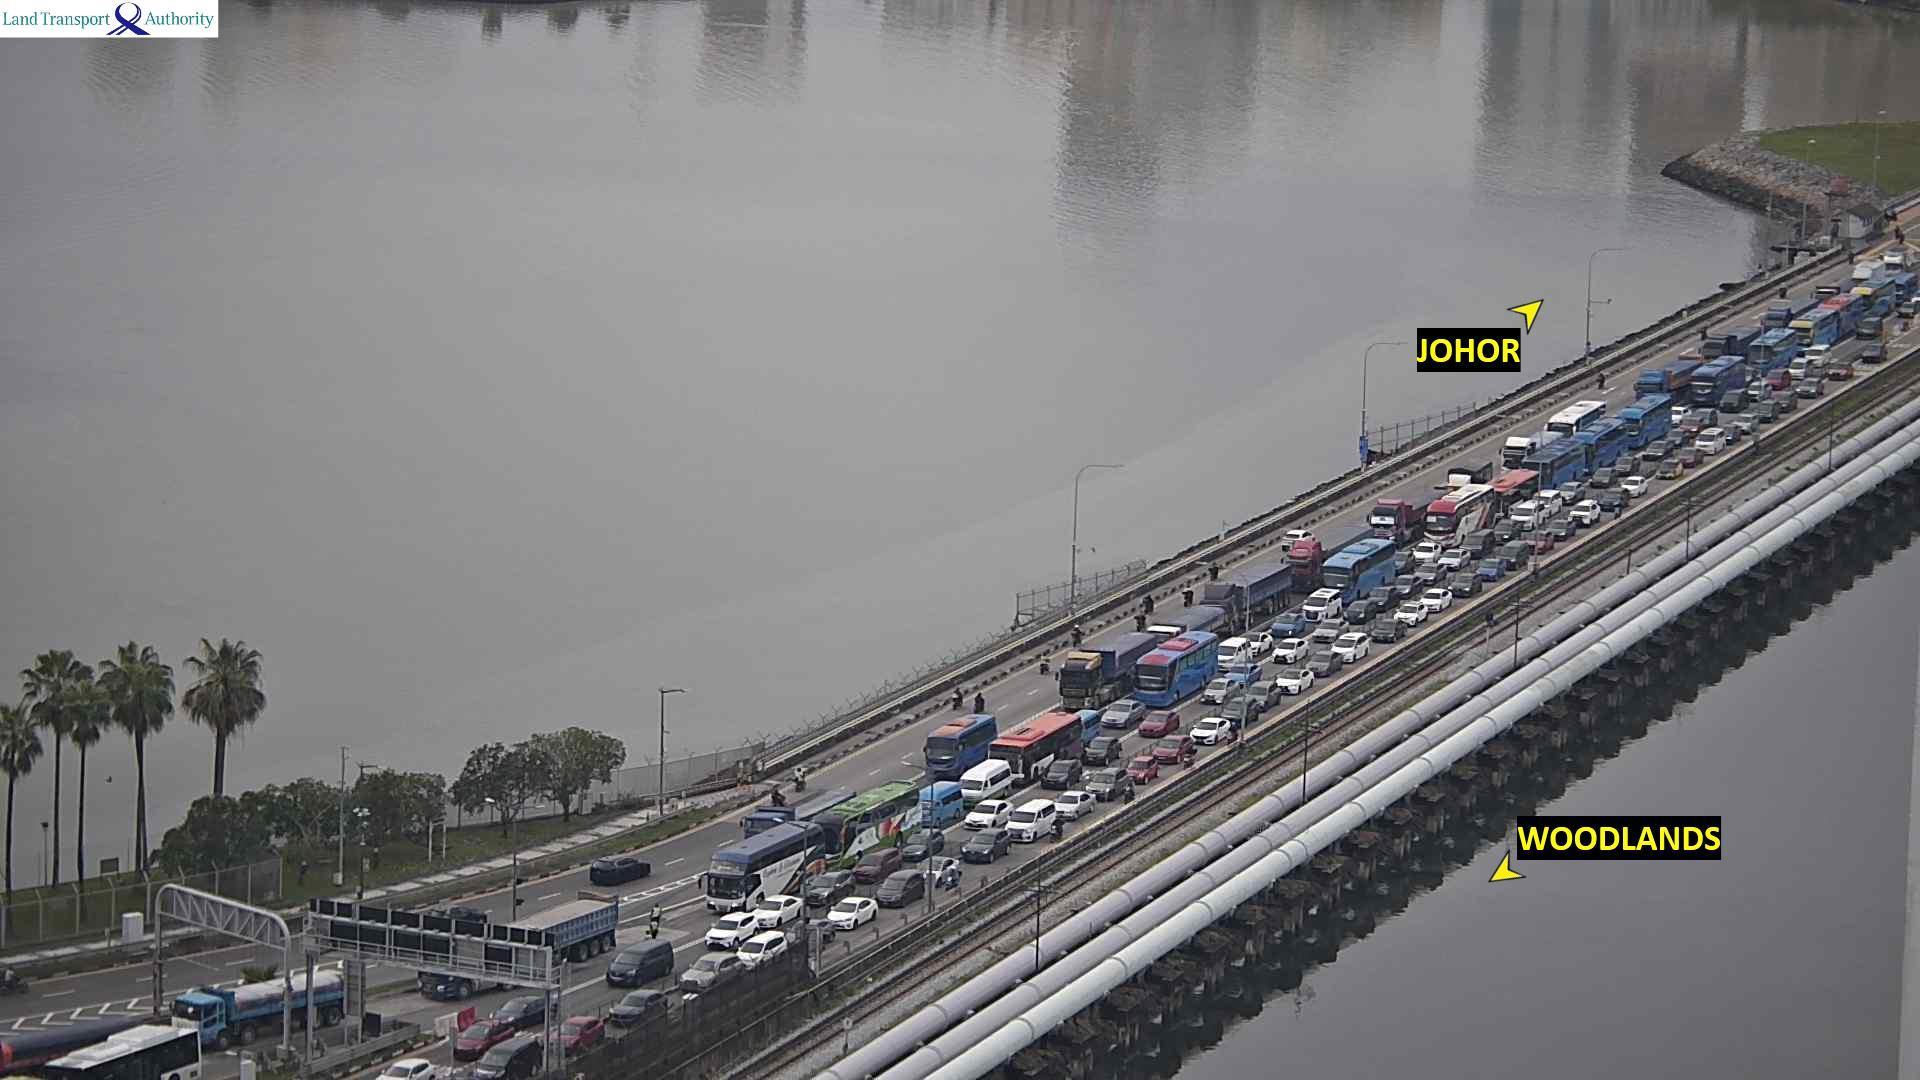vehicle-causeway-johor: (589, 860, 653, 886), (1282, 529, 1315, 550), (1812, 283, 1847, 297), (951, 688, 962, 706), (1697, 324, 1707, 343), (1136, 612, 1147, 628), (1144, 594, 1155, 609), (976, 692, 984, 712), (1073, 624, 1081, 644), (1596, 371, 1606, 386), (1777, 284, 1787, 295), (1211, 563, 1218, 578), (1185, 588, 1191, 605), (1042, 653, 1047, 672), (1849, 252, 1854, 264)
vehicle-causeway-singapore: (190, 967, 345, 1047), (700, 825, 844, 909), (820, 785, 968, 861), (485, 904, 618, 980), (989, 710, 1106, 787), (1060, 635, 1153, 705), (1135, 634, 1224, 698), (1321, 537, 1411, 594), (920, 719, 1000, 781), (1425, 483, 1508, 535), (1519, 439, 1602, 487), (605, 940, 679, 985), (1607, 399, 1672, 448), (488, 994, 566, 1030), (1637, 359, 1702, 401), (954, 763, 1022, 799), (1685, 360, 1749, 398), (1785, 308, 1849, 345), (1476, 470, 1543, 505), (1545, 402, 1605, 441), (676, 959, 744, 992), (542, 1017, 608, 1051), (482, 1046, 546, 1079), (1370, 499, 1425, 537), (733, 936, 791, 971), (1704, 326, 1763, 360), (824, 897, 881, 929), (609, 995, 668, 1025), (704, 917, 761, 948), (1750, 331, 1794, 369), (1073, 771, 1129, 800), (871, 878, 925, 908), (746, 901, 805, 927), (447, 1035, 502, 1062), (955, 835, 1010, 862), (1852, 278, 1892, 312), (1014, 800, 1052, 834), (1038, 762, 1084, 789), (1099, 701, 1144, 727), (1305, 590, 1341, 622), (970, 799, 1011, 827), (1266, 614, 1312, 638), (905, 827, 942, 856), (1139, 711, 1180, 737), (1153, 735, 1191, 763), (1269, 671, 1313, 694), (1049, 793, 1093, 816), (1218, 637, 1249, 668), (386, 1060, 434, 1079), (1512, 500, 1545, 527), (1272, 639, 1308, 663), (1335, 632, 1368, 658), (1307, 651, 1345, 673), (1192, 716, 1228, 739), (1570, 500, 1601, 526), (1227, 662, 1262, 685), (1251, 680, 1278, 709), (1225, 697, 1257, 721), (1127, 756, 1157, 781), (1344, 599, 1375, 623), (1596, 487, 1629, 509), (1420, 589, 1451, 612), (1410, 541, 1442, 563), (1535, 490, 1561, 517), (1371, 620, 1404, 641), (1240, 631, 1272, 652), (1315, 619, 1343, 643), (1857, 345, 1892, 363), (1697, 430, 1724, 453), (1521, 530, 1552, 550), (1441, 547, 1471, 567), (1416, 564, 1449, 582), (1451, 574, 1479, 595), (1396, 602, 1425, 622), (1856, 316, 1881, 339), (1477, 562, 1505, 582), (1675, 448, 1704, 467), (1730, 412, 1756, 433), (1896, 271, 1917, 297), (1815, 363, 1851, 378), (1504, 541, 1529, 562), (1589, 467, 1616, 486), (1771, 390, 1796, 410), (1656, 458, 1682, 477), (1690, 408, 1716, 427), (1613, 456, 1638, 475), (1547, 520, 1574, 537), (1623, 478, 1648, 496), (1807, 346, 1830, 364), (1800, 378, 1823, 396), (1719, 424, 1740, 443), (1768, 369, 1790, 387), (1757, 402, 1780, 419), (1895, 302, 1918, 317), (946, 866, 960, 887), (1181, 748, 1195, 767), (1228, 722, 1237, 743)
